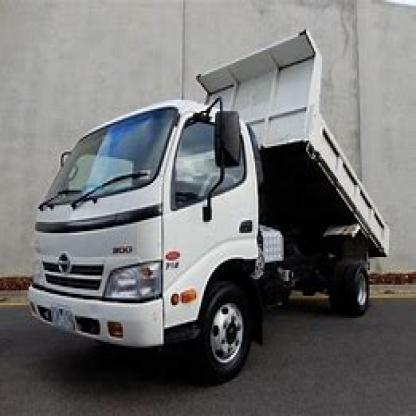dump_truck: (23, 22, 398, 392)
